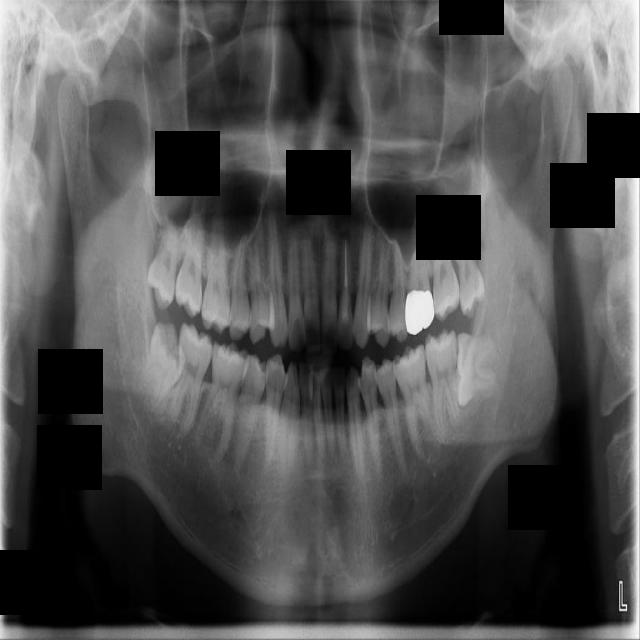3M ESPE Implant: (144, 222, 182, 310)
52: (404, 290, 435, 335)
73: (339, 230, 351, 321), (596, 560, 600, 568)
Biomet 3i Implant: (455, 330, 496, 406)
Blue Sky Bio Implant: (424, 329, 460, 439)
Caries: (174, 214, 206, 316)
Implant: (170, 322, 215, 434)
Keystone Dental Implant: (129, 318, 196, 413)
